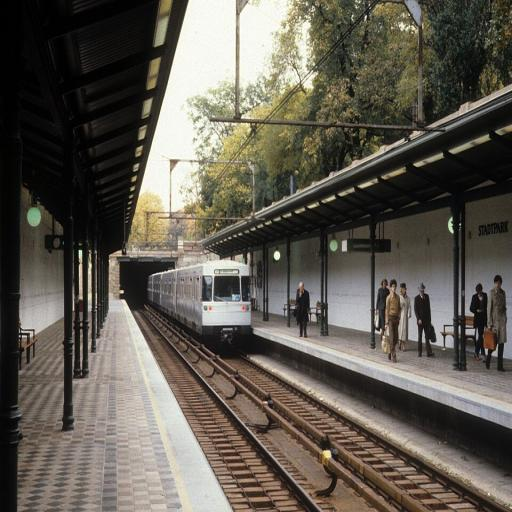Silberpfeil: (145, 257, 256, 341)
